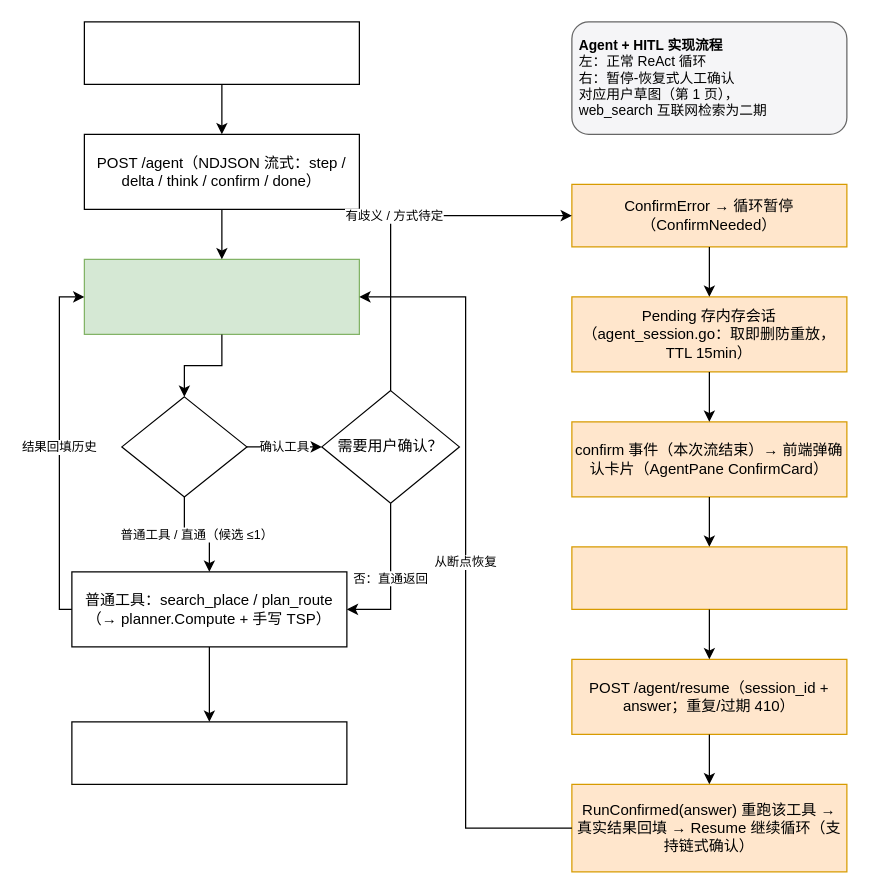
Image size: 869x894. Some labels were removed from this diagram. Here are the shapes that lost their labels. From the top down, the box of each, then its label:
(83, 21, 359, 84): 用户输入问题（聊天面板）
(83, 258, 359, 334): Agent 循环（loop.go runLoop）模型 → 工具 → 结果回填历史
(121, 396, 247, 497): 工具调用
(571, 546, 847, 609): 用户点选候选地点 / 出行方式
(71, 721, 347, 784): done：最终答案 + 规划结果同步工作台
